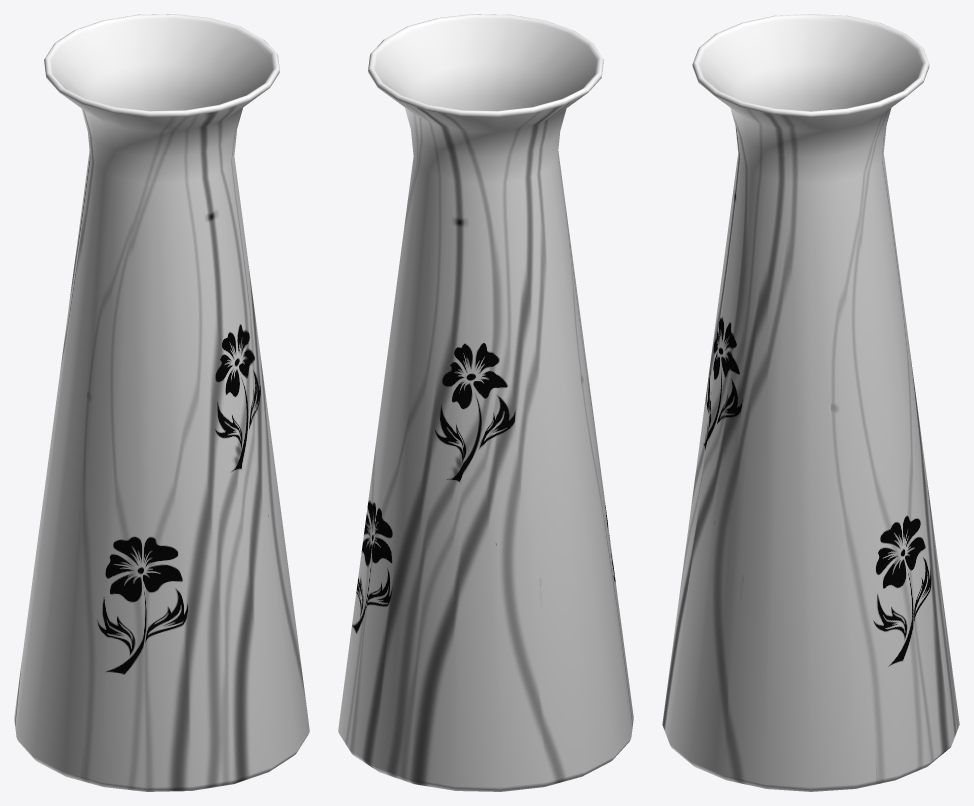
File: Vase01_2.FBX
3 renders of one model, left to right at view 1: azimuth 30°, elevation 25°; view 2: azimuth 150°, elevation 25°; view 3: azimuth 270°, elevation 25°, orthographic.
Visible parts, largest first — view 1: Vase01_2; view 2: Vase01_2; view 3: Vase01_2.
Boxes of the visible parts, x1=… form: Vase01_2: x1=14, y1=14, x2=309, y2=791; Vase01_2: x1=338, y1=14, x2=633, y2=791; Vase01_2: x1=662, y1=14, x2=959, y2=791.
Bounding box in the file's own units: 18 × 44.68 × 18.
